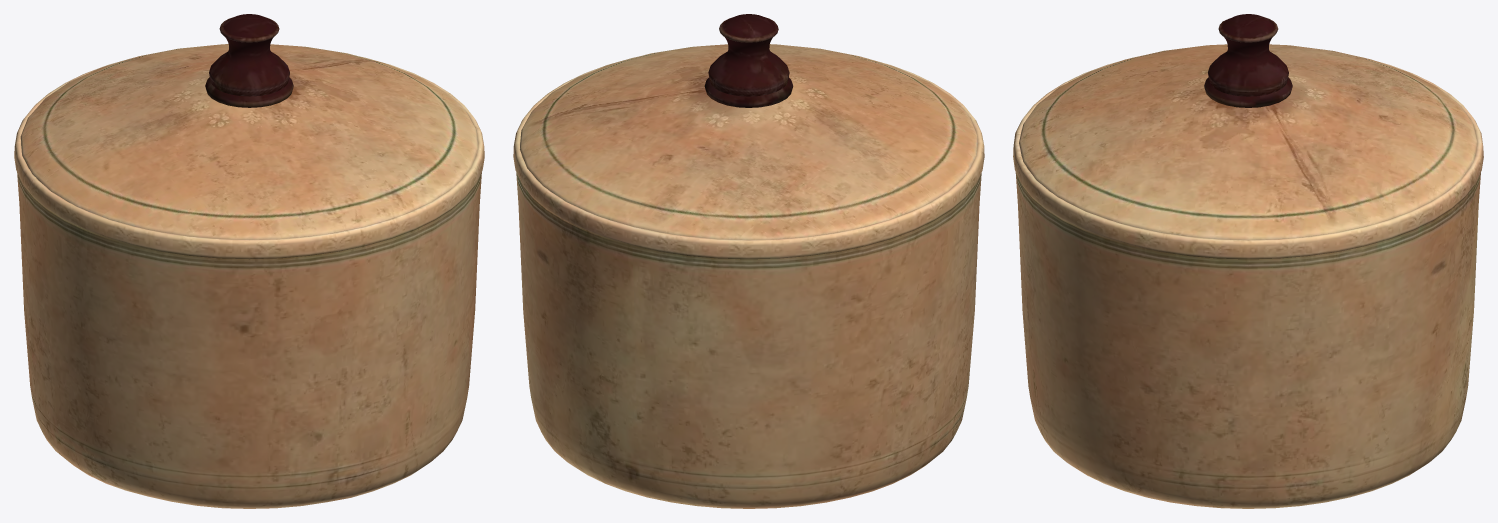
File: brass_pot_01.glb
3 views of the same model, side by side, from view 1: azimuth 30°, elevation 25°; view 2: azimuth 150°, elevation 25°; view 3: azimuth 270°, elevation 25° (orthographic).
Parts seen in each view (by area): view 1: brass_pot_01; view 2: brass_pot_01; view 3: brass_pot_01.
Boxes of the visible parts, x1,y1,x2,y2 form: brass_pot_01: [14, 14, 484, 508]; brass_pot_01: [513, 14, 984, 508]; brass_pot_01: [1013, 14, 1483, 508].
Bounding box in the file's own units: 0.3019 × 0.291 × 0.3017.
Materials: 1 (1 with a texture image).
